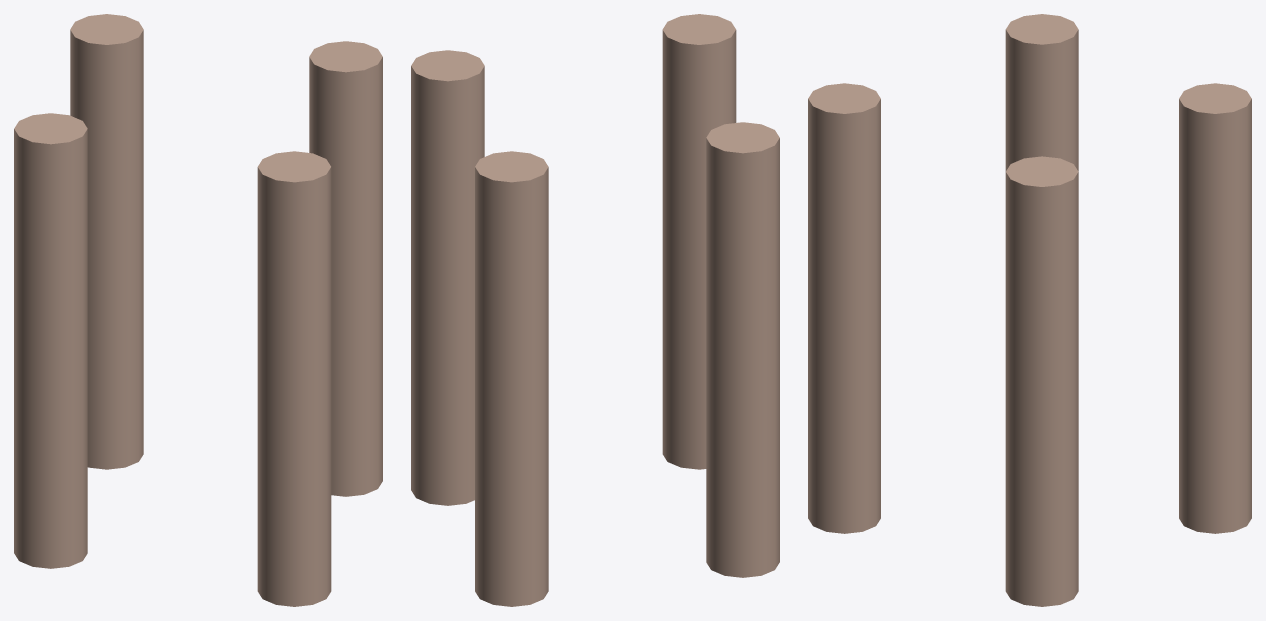
File: Pillar_06A.fbx
3 renders of one model, left to right at view 1: azimuth 30°, elevation 25°; view 2: azimuth 150°, elevation 25°; view 3: azimuth 270°, elevation 25°, orthographic.
Visible parts, largest first — view 1: Pillar_06A; view 2: Pillar_06A; view 3: Pillar_06A.
Part boxes in pixels (x1=…): Pillar_06A: x1=14, y1=14, x2=382, y2=606; Pillar_06A: x1=411, y1=14, x2=779, y2=606; Pillar_06A: x1=808, y1=14, x2=1251, y2=606.
Bounding box in the file's own units: 133 × 150 × 144.
